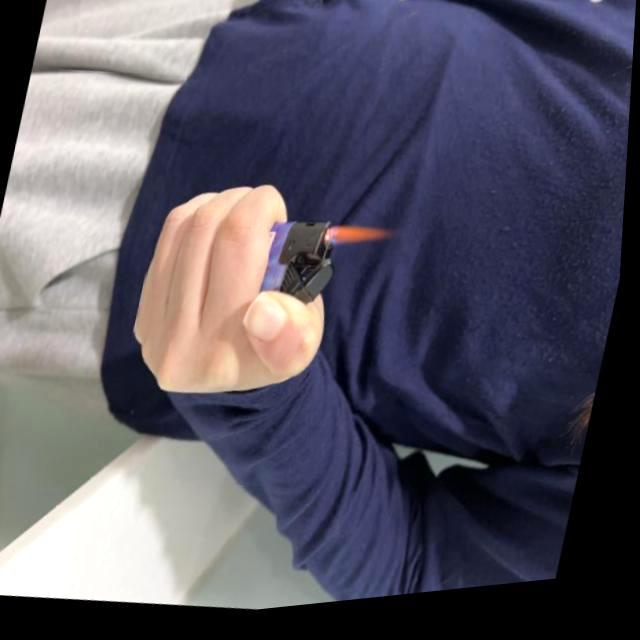fire: (324, 226, 400, 264)
